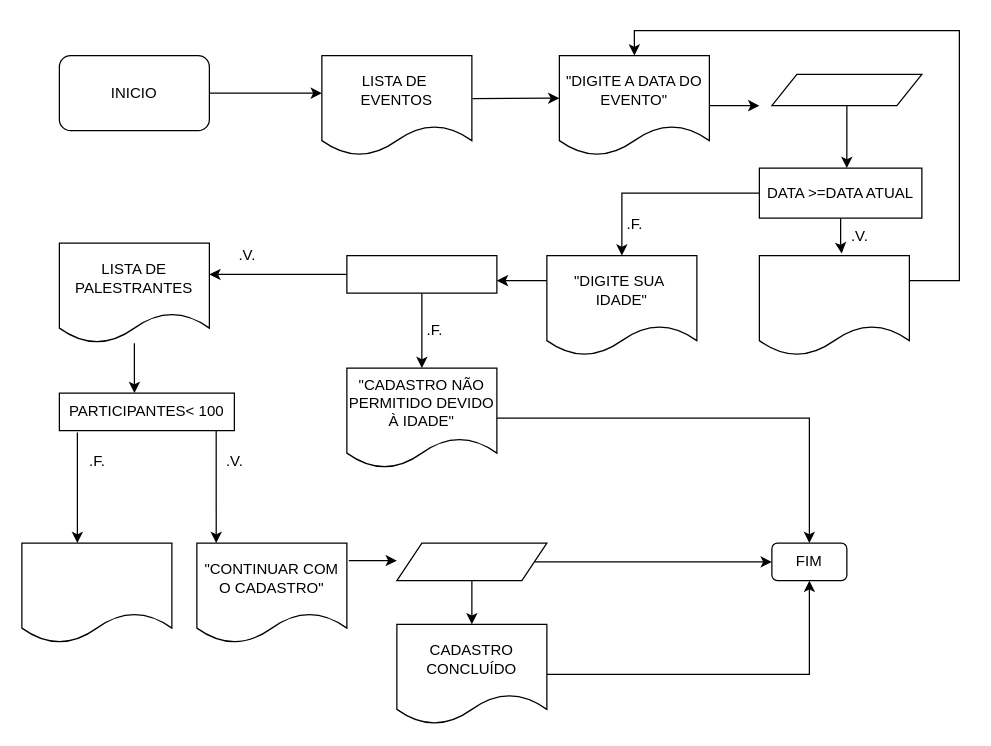
The diagram is 991 pixels wide and 746 high, and some of its shapes have lost their labels. Each missing label, with the centre of its shape:
"DATA INVÁLIDA": (833,305)
CADASTRO: (471,561)
DATA: (846,89)
IDADE: (421,273)
Nº DE PARTICIPANTES EXCEDIDO: (96,592)
